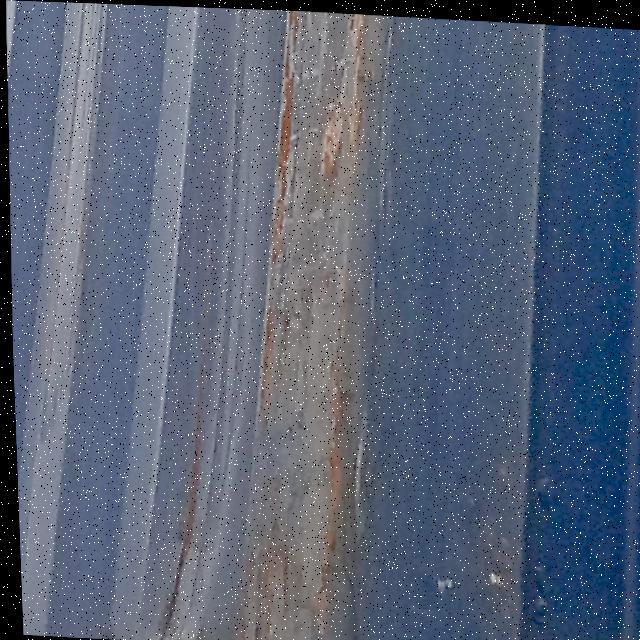rust: (229, 8, 428, 573)
